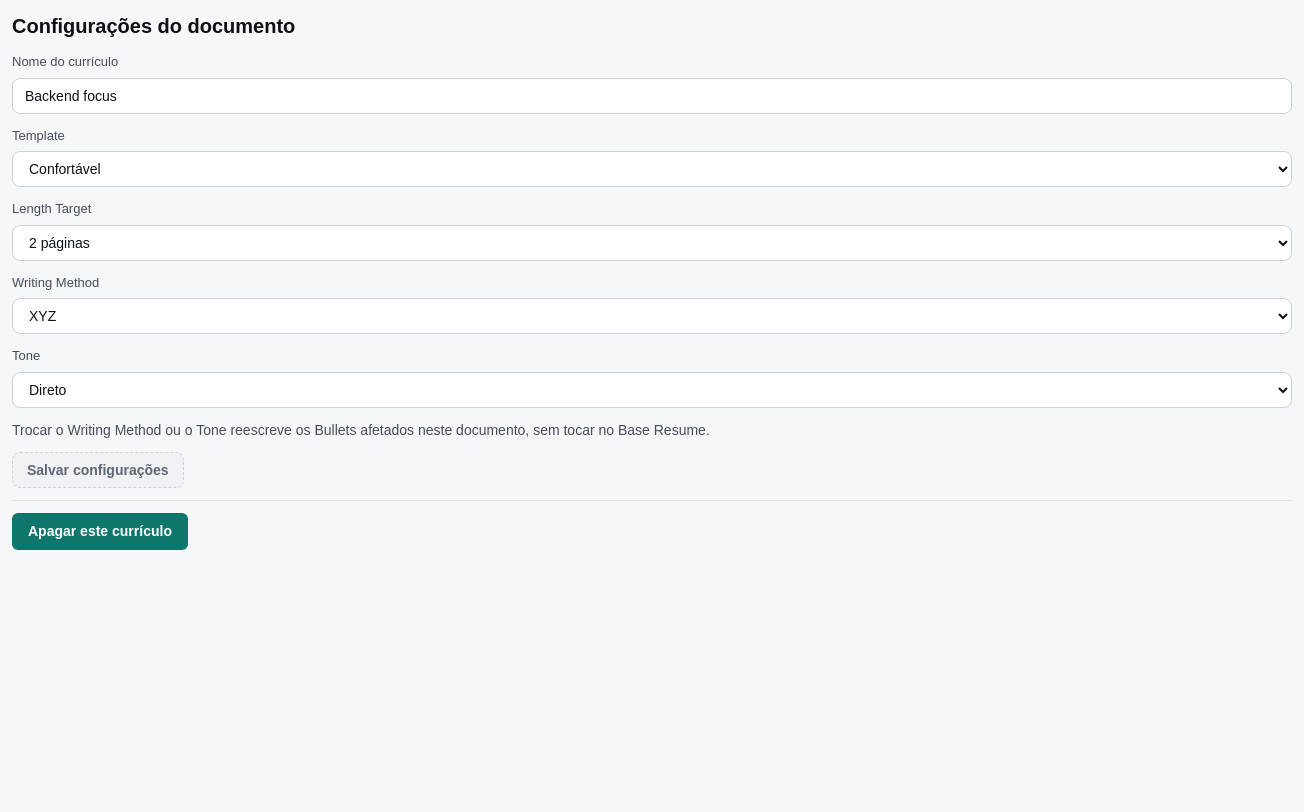
Scenario: DocumentSettingsPanel › should ask for confirmation before deleting and return focus on cancel
Click the button "Apagar este currículo". click: (100,531)
box: [12,512,188,550]
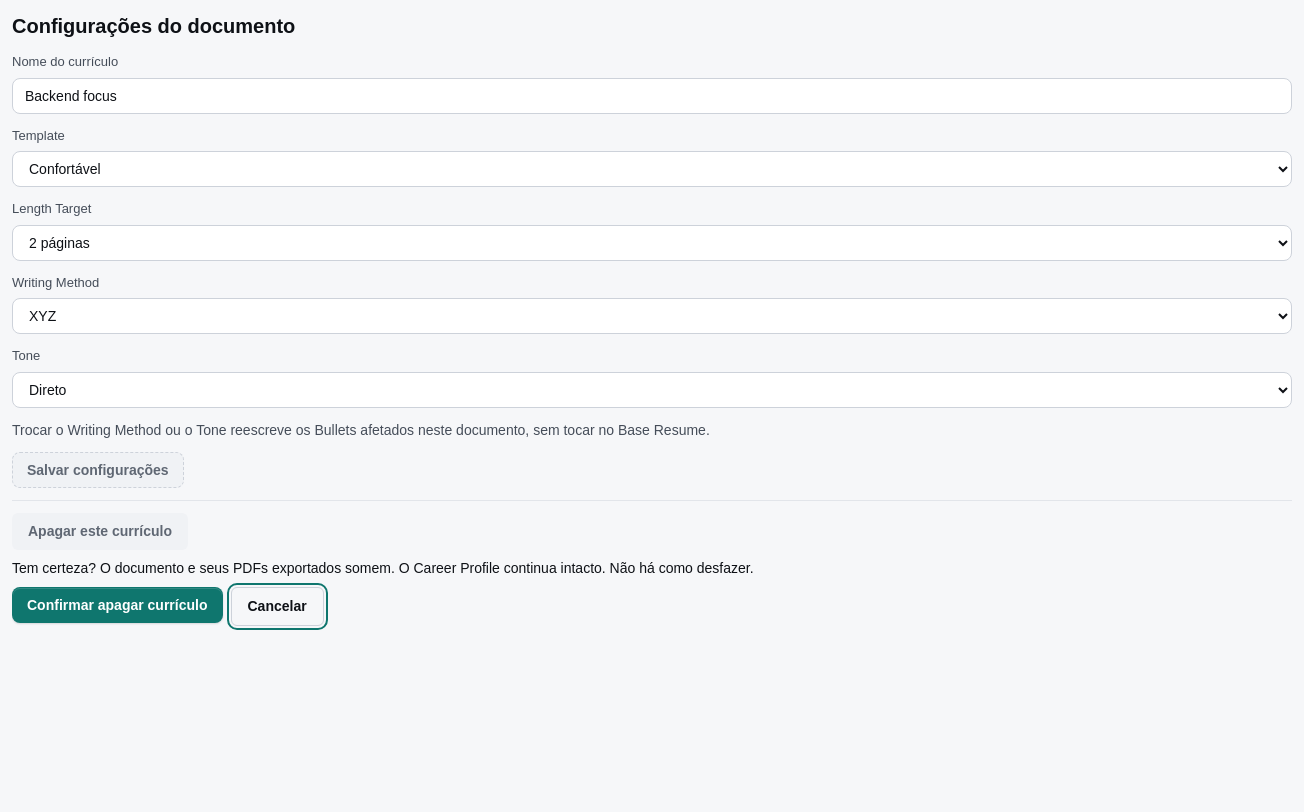
Expected: the button "Confirmar apagar currículo" is shown, [12,586,222,622]
Click the button "Cancelar". click: (277,606)
box: [230,586,324,626]
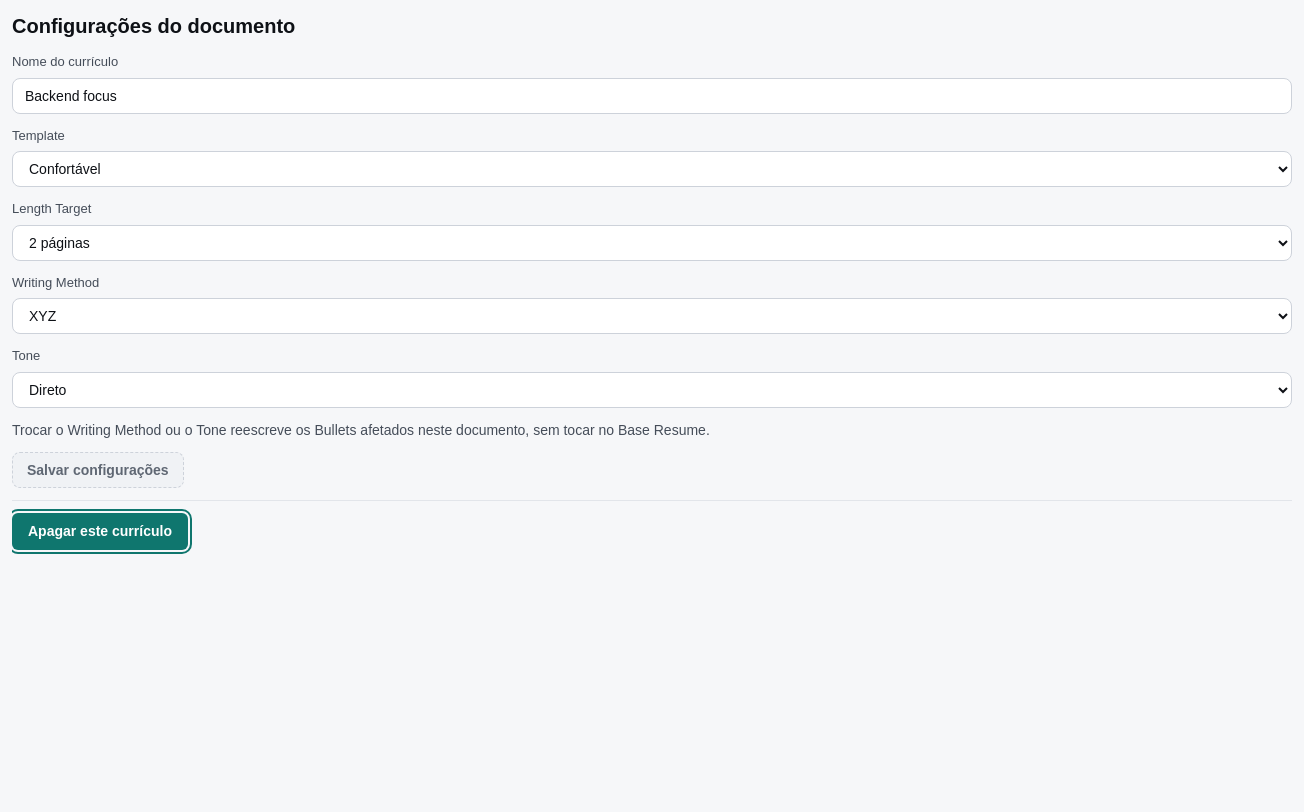
Expected: the button "Confirmar apagar currículo" is gone
